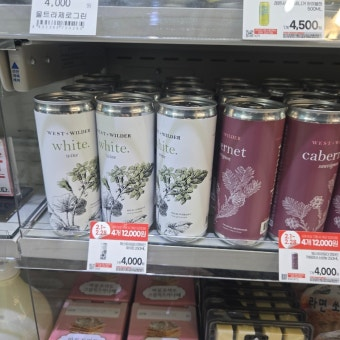paper: (34, 90, 104, 235), (276, 100, 340, 244), (154, 95, 215, 244), (95, 92, 156, 234), (218, 100, 276, 242)
